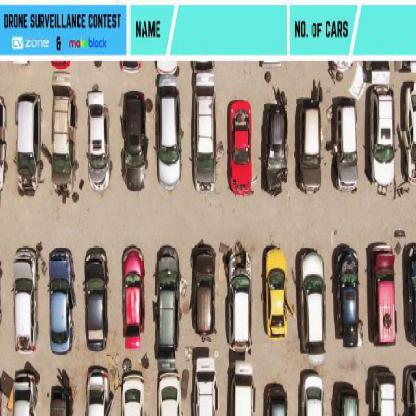car: (156, 74, 184, 193), (298, 248, 326, 364), (192, 63, 216, 197), (156, 246, 184, 358), (53, 73, 77, 201), (48, 248, 76, 354), (369, 245, 397, 349), (334, 246, 362, 348), (12, 246, 38, 354), (262, 99, 290, 196), (83, 249, 109, 353), (121, 92, 148, 192), (227, 243, 251, 351), (191, 242, 217, 340), (371, 85, 395, 191), (88, 91, 112, 197), (16, 95, 40, 197), (121, 248, 145, 350), (298, 99, 322, 194), (230, 100, 253, 198), (336, 99, 360, 192), (265, 247, 287, 341), (402, 81, 416, 189), (195, 354, 219, 415), (83, 366, 111, 415), (369, 368, 398, 415), (298, 372, 326, 415), (264, 384, 288, 415)
